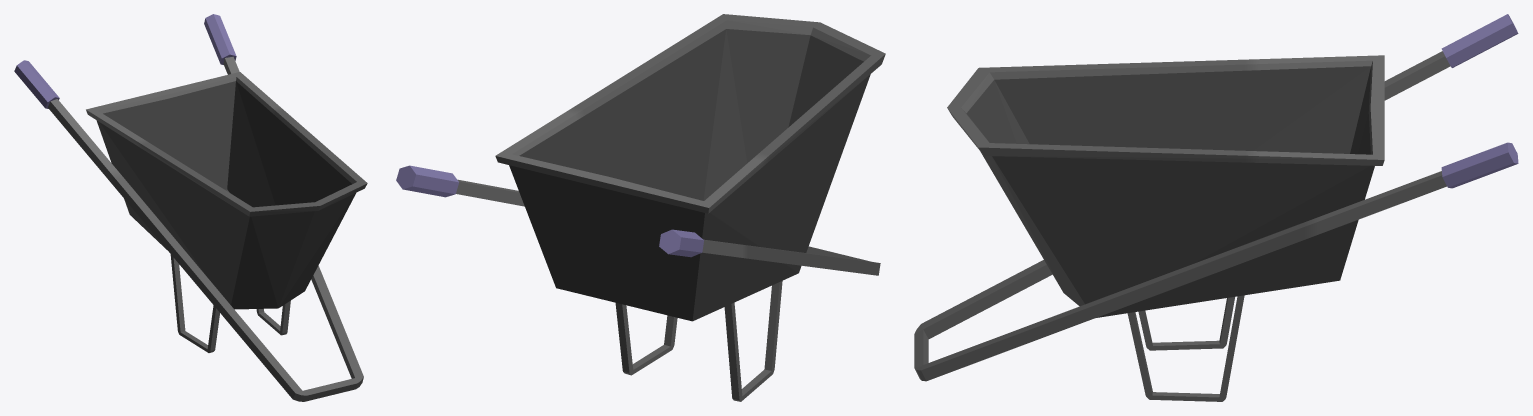
Rendered from Wheelbarrow_02.fbx.
The picture shows the model from 3 angles, left to right: view 1: azimuth 30°, elevation 25°; view 2: azimuth 150°, elevation 25°; view 3: azimuth 270°, elevation 25°; orthographic projection. The views are drawn at different scales.
Parts seen in each view (by area): view 1: Wheelbarrow_02; view 2: Wheelbarrow_02; view 3: Wheelbarrow_02.
Boxes of the visible parts, x1,y1,x2,y2 form: Wheelbarrow_02: (14, 14, 367, 401); Wheelbarrow_02: (396, 14, 885, 401); Wheelbarrow_02: (914, 14, 1518, 401).
Size of the model in its own units: 88.31 by 87.64 by 162.
